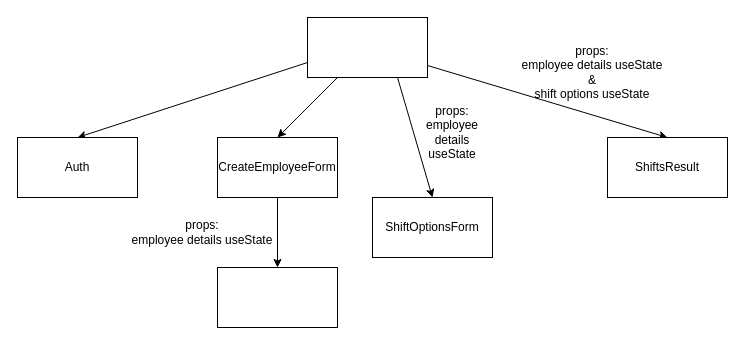
The diagram is 745 pixels wide and 345 high, and some of its shapes have lost their labels. The box of each missing label's shape, as (x1, y1, x2, y2) in pixels:
App: (306, 16, 428, 78)
DisplayEmployees: (216, 266, 338, 328)
